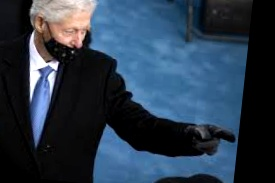mask_weared_incorrect: (39, 1, 91, 60)
